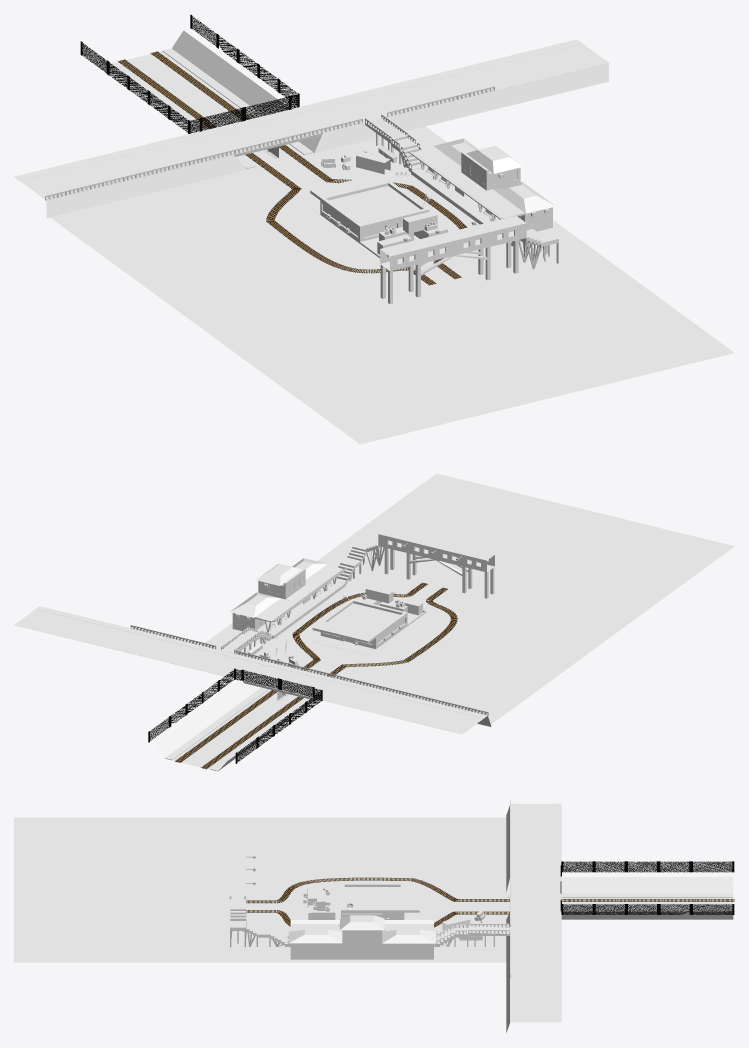
The model's file is TrainStationLevel.glb.
3 views of the same model, one above another, from view 1: azimuth 30°, elevation 25°; view 2: azimuth 150°, elevation 25°; view 3: azimuth 270°, elevation 25° (orthographic). The views are drawn at different scales.
Visible parts, largest first — view 1: YardGround, Road.001, TrainPath.001, MiddleTrainStation, SecurityBuilding, Fences.011, CrossingBridge, RoadFence..001, BridgeSkeleton, SideWalk, StairsPole.023, TrainRailsmCurve (+4 smaller); view 2: YardGround, Road.001, TrainPath.001, MiddleTrainStation, SecurityBuilding, Fences.011, CrossingBridge, RoadFence..001, SideWalk, BridgeSkeleton, StairsPole.004, TrainRailsmCurve (+4 smaller); view 3: YardGround, Road.001, TrainPath.001, MiddleTrainStation, Fences.011, SecurityBuilding, StairsPole.023, CrossingBridge, StairsPole.004, TrainRailsmCurve, SideWalk, TrainRails..002.
Part boxes in pixels (bbox=[...]): YardGround: bbox=[51, 126, 734, 444]; Road.001: bbox=[14, 39, 608, 200]; TrainPath.001: bbox=[46, 30, 608, 218]; MiddleTrainStation: bbox=[408, 138, 555, 231]; SecurityBuilding: bbox=[310, 173, 429, 257]; Fences.011: bbox=[80, 14, 299, 133]; CrossingBridge: bbox=[380, 215, 526, 271]; RoadFence..001: bbox=[45, 86, 494, 200]; BridgeSkeleton: bbox=[380, 233, 518, 303]; SideWalk: bbox=[110, 48, 313, 168]; StairsPole.023: bbox=[365, 114, 426, 172]; TrainRailsmCurve: bbox=[266, 187, 436, 285]; YardGround: bbox=[203, 473, 734, 726]; Road.001: bbox=[14, 606, 487, 734]; TrainPath.001: bbox=[155, 680, 491, 771]; MiddleTrainStation: bbox=[230, 558, 347, 638]; SecurityBuilding: bbox=[312, 599, 426, 655]; Fences.011: bbox=[148, 668, 322, 763]; CrossingBridge: bbox=[378, 528, 494, 572]; RoadFence..001: bbox=[130, 625, 488, 715]; SideWalk: bbox=[165, 687, 310, 771]; BridgeSkeleton: bbox=[384, 542, 494, 598]; StairsPole.004: bbox=[334, 541, 384, 584]; TrainRailsmCurve: bbox=[341, 587, 457, 667]; YardGround: bbox=[14, 817, 506, 962]; Road.001: bbox=[510, 803, 561, 1022]; TrainPath.001: bbox=[506, 805, 733, 1032]; MiddleTrainStation: bbox=[288, 913, 436, 959]; Fences.011: bbox=[560, 861, 734, 914]; SecurityBuilding: bbox=[303, 883, 420, 919]; StairsPole.023: bbox=[434, 923, 509, 946]; CrossingBridge: bbox=[229, 843, 245, 907]; StairsPole.004: bbox=[230, 908, 290, 947]; TrainRailsmCurve: bbox=[246, 877, 458, 903]; SideWalk: bbox=[507, 893, 733, 897]; TrainRails..002: bbox=[454, 899, 734, 901].
Size of the model in its own units: 301 by 24.58 by 419.
Materials: 14 (1 with a texture image).
